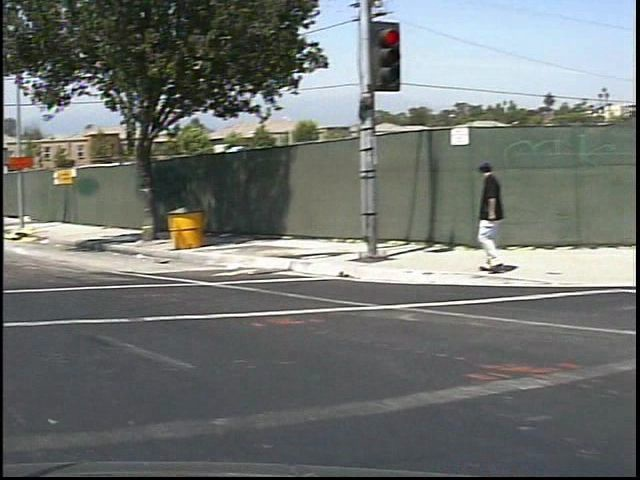person: (455, 153, 508, 287)
